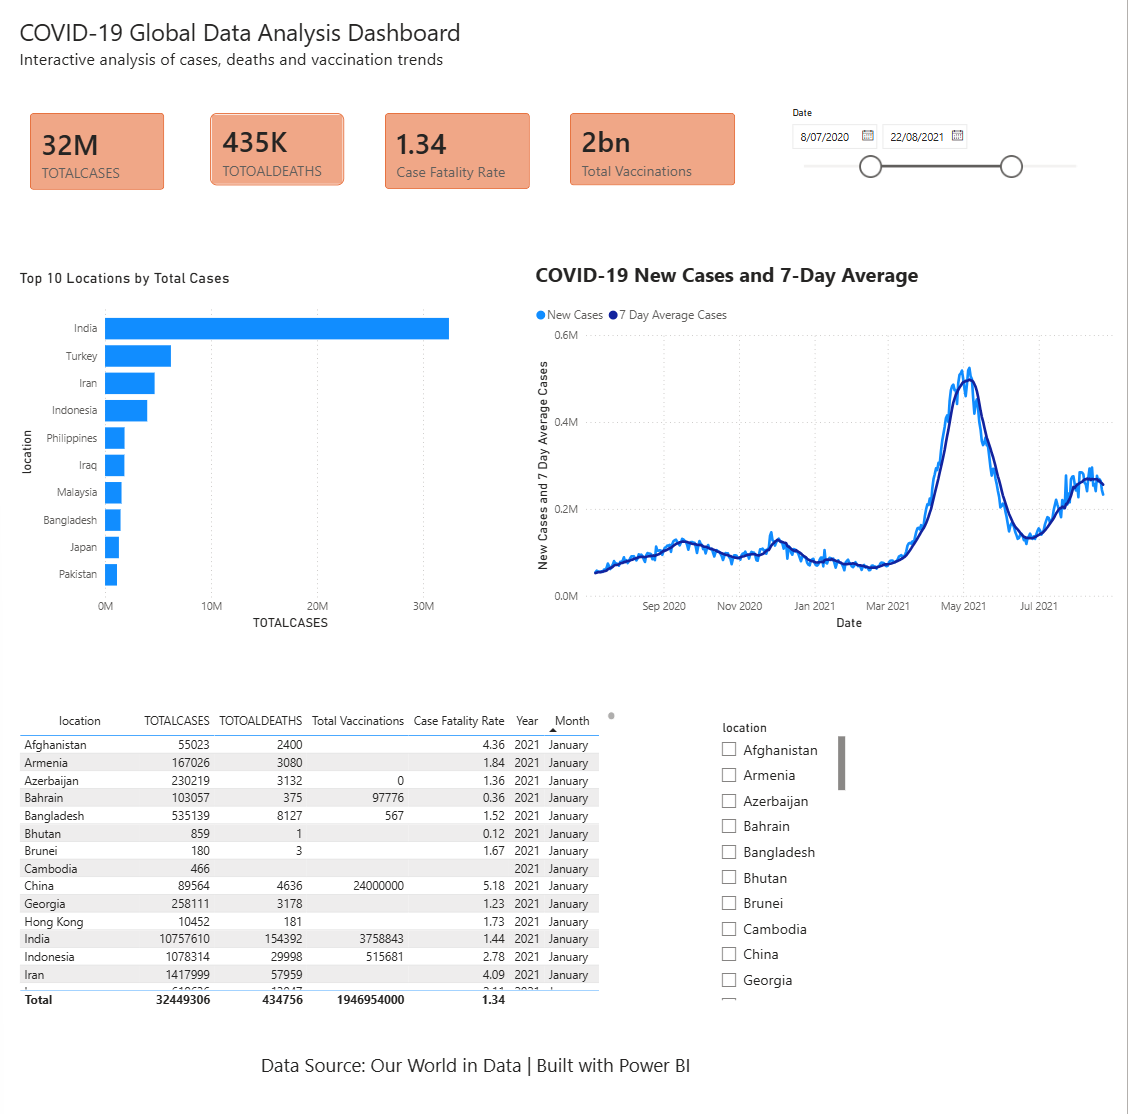

This screenshot's page, from the dashboard's own definition file:
{"tool":"powerbi","page":{"name":"Page 1","canvas":[1280,1300],"ordinal":0},"visuals":[{"type":"cardVisual","fields":{"Data":["owid-covid-data.TOTALCASES"]},"box":[20.4,117.8,186.7,121.7],"z":0},{"type":"lineChart","title":"COVID-19 New Cases and 7-Day Average","fields":{"Y":["owid-covid-data.New Cases","owid-covid-data.7 Day Average Cases"],"Category":["Date_table.Date.Variation.Date Hierarchy.Day"]},"box":[604.9,302.4,675.1,422.5],"z":1000},{"type":"cardVisual","fields":{"Data":["owid-covid-data.TOTOALDEATHS"]},"box":[224.3,117.8,186.7,116.7],"z":2000},{"type":"cardVisual","fields":{"Data":["owid-covid-data.Case Fatality Rate"]},"box":[422.5,117.8,198.8,120.6],"z":3000},{"type":"cardVisual","fields":{"Data":["owid-covid-data.Total Vaccinations"]},"box":[632.1,117.8,221.1,116.2],"z":4000},{"type":"slicer","fields":{"Values":["owid-covid-data.location"]},"box":[808.6,817.5,157.5,327.2],"z":5000},{"type":"tableEx","fields":{"Values":["owid-covid-data.location","owid-covid-data.TOTALCASES","owid-covid-data.TOTOALDEATHS","owid-covid-data.Total Vaccinations","owid-covid-data.Case Fatality Rate","Date_table.Date.Variation.Date Hierarchy.Year","Date_table.Date.Variation.Date Hierarchy.Month"]},"box":[20.4,807.6,685.3,345.5],"z":6000},{"type":"clusteredBarChart","title":"Top 10 Locations by Total Cases","fields":{"Category":["owid-covid-data.location"],"Y":["owid-covid-data.TOTALCASES"]},"box":[20.4,311.5,539.2,413.5],"z":7000},{"type":"slicer","fields":{"Values":["Date_table.Date"]},"box":[887.9,124,357.4,130.7],"z":8000},{"type":"textbox","box":[20.1,19,645.5,75.9],"z":9000},{"type":"textbox","box":[290,1192.8,741.9,75.9],"z":10000}]}

Visuals, with their boxes on the page's 1280x1300 design canvas (x1, y1, x2, y2). These are canvas units, not pixel positions in the 1132x1114 screenshot, which may show the page scaled, cropped or inside an application window:
cardVisual - owid-covid-data.TOTALCASES: bbox=[20, 118, 207, 240]
"COVID-19 New Cases and 7-Day Average" lineChart: bbox=[605, 302, 1280, 725]
cardVisual - owid-covid-data.TOTOALDEATHS: bbox=[224, 118, 411, 234]
cardVisual - owid-covid-data.Case Fatality Rate: bbox=[422, 118, 621, 238]
cardVisual - owid-covid-data.Total Vaccinations: bbox=[632, 118, 853, 234]
slicer - owid-covid-data.location: bbox=[809, 818, 966, 1145]
tableEx - owid-covid-data.location x owid-covid-data.TOTALCASES: bbox=[20, 808, 706, 1153]
"Top 10 Locations by Total Cases" clusteredBarChart: bbox=[20, 312, 560, 725]
slicer - Date_table.Date: bbox=[888, 124, 1245, 255]
textbox: bbox=[20, 19, 666, 95]
textbox: bbox=[290, 1193, 1032, 1269]
